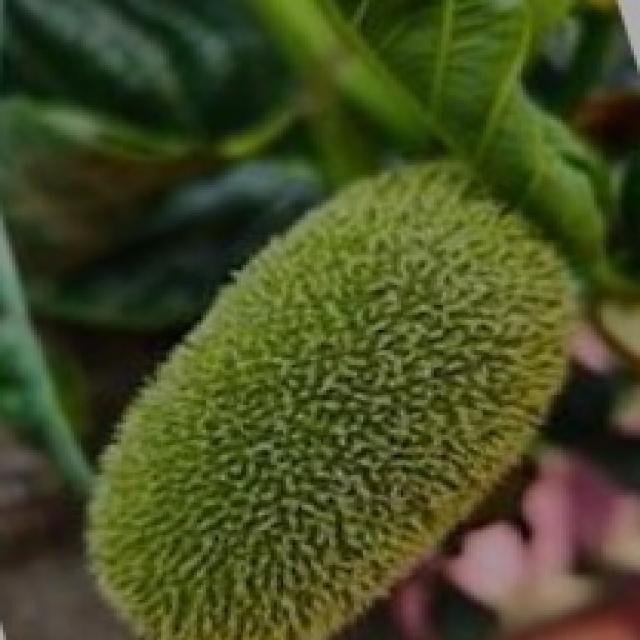Fruit: (31, 265, 431, 640)
